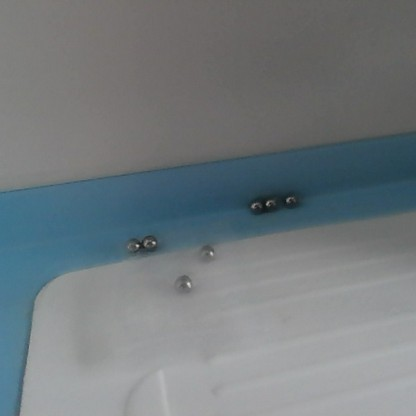ironball: (172, 272, 192, 298), (197, 238, 217, 261), (122, 236, 141, 255), (139, 231, 158, 248), (261, 194, 278, 213), (281, 192, 298, 209), (246, 200, 263, 214)
